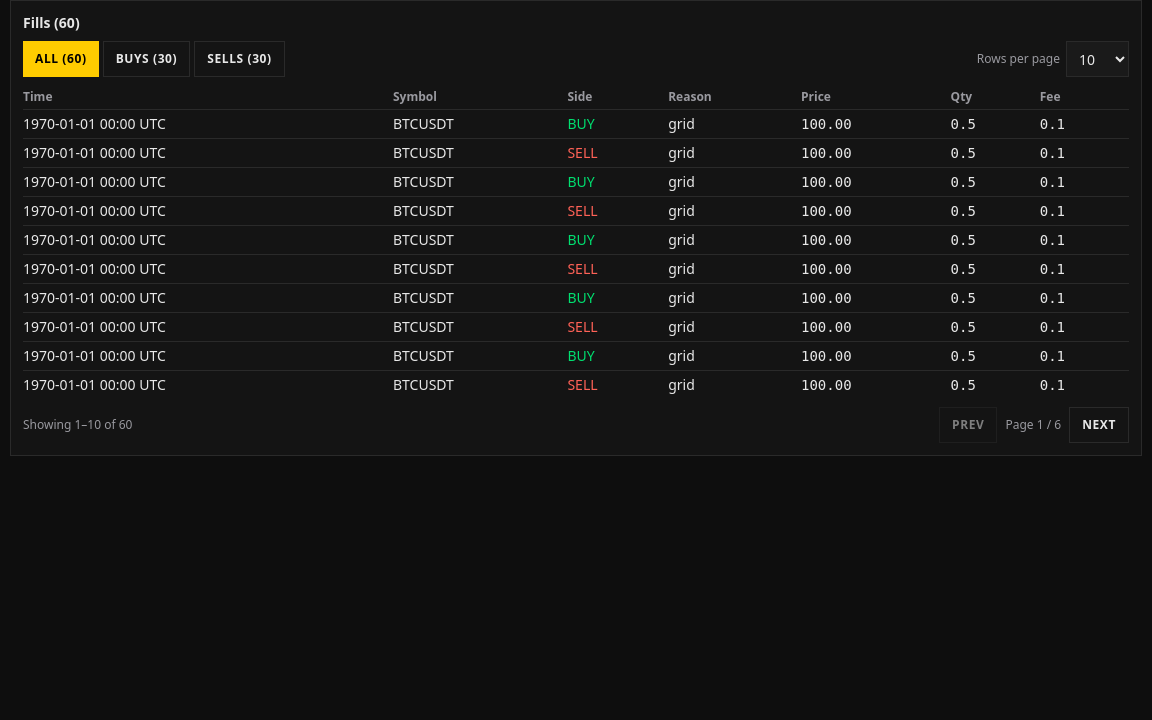
Test: BacktestFills pagination + filter › changing rows-per-page repaginates and resets to page 1
Click the button with test id "bt-fills-next" at (1099, 425), box 1069,407 -> 1129,443
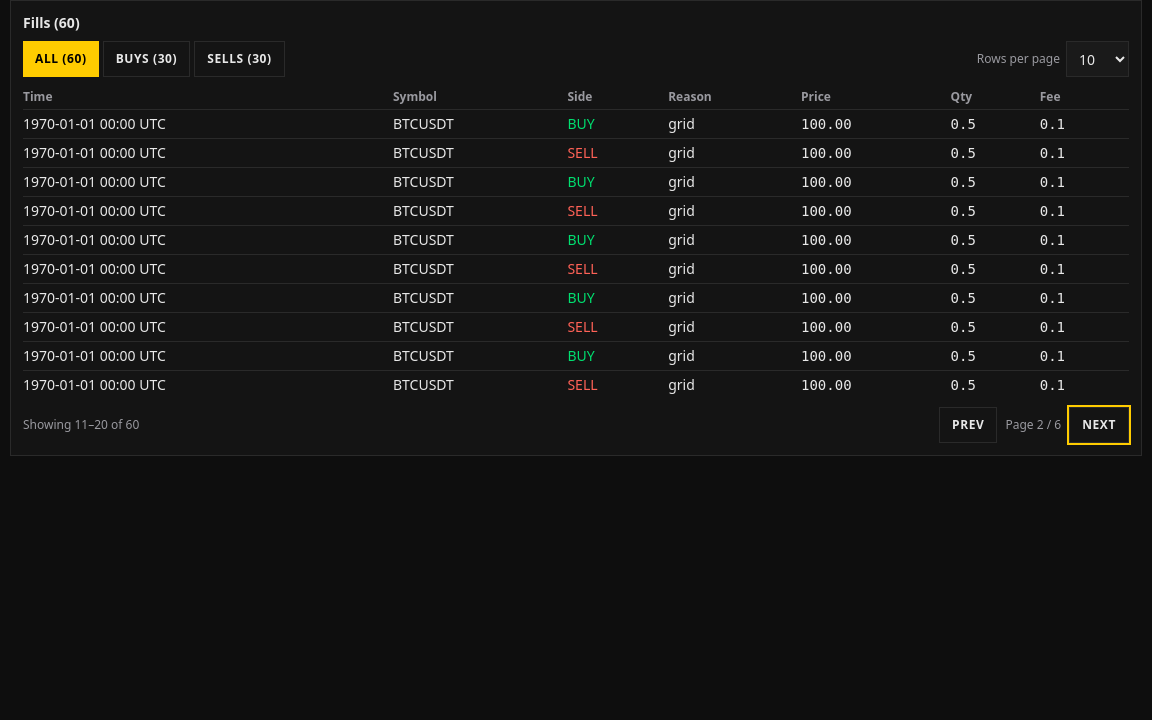
Select "25" in the dropdown with test id "bt-fills-page-size" at (1098, 59), box 1066,41 -> 1129,77
(page scrolled)
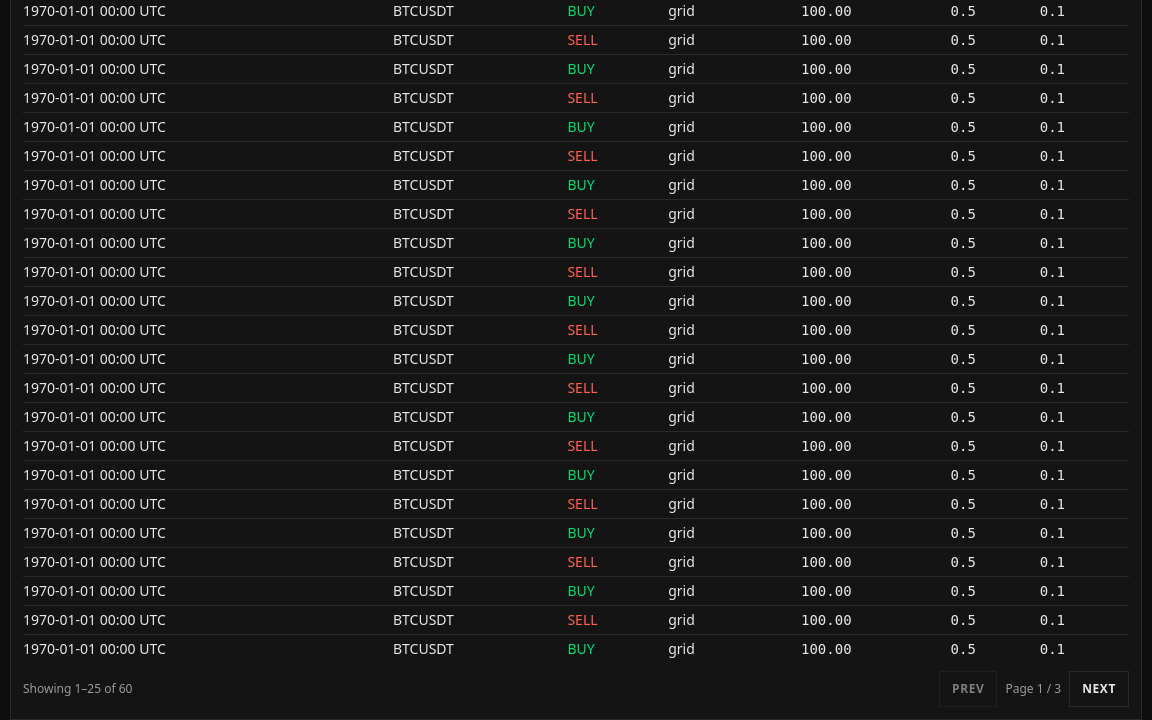
Expected: the text with test id "bt-fills-range" reads "Showing 1–25 of 60", 23,680 -> 132,697
